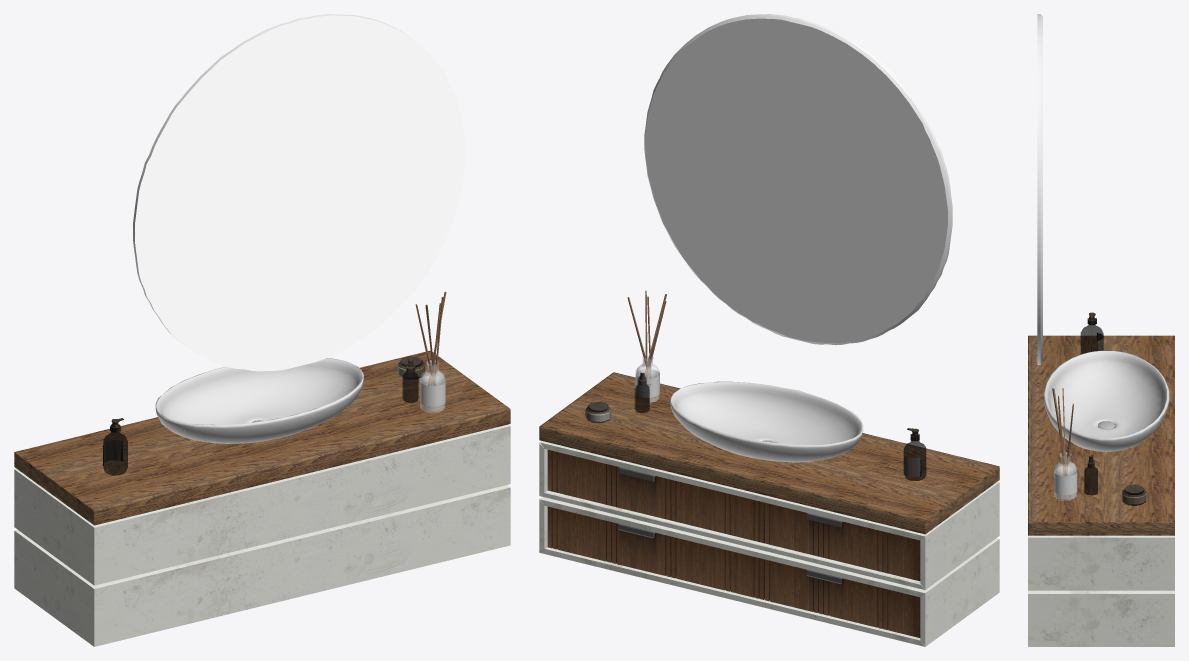
File: furniture_1.glb
The picture shows the model from 3 angles, left to right: view 1: azimuth 30°, elevation 25°; view 2: azimuth 150°, elevation 25°; view 3: azimuth 270°, elevation 25°; orthographic projection. The views are drawn at different scales.
Visible parts, largest first — view 1: GF_Mirror.001, GF_Cube.026, GF_Cube.028, GF_Cube.031, GF_Sink.002, GF_Aroma.001, GF_Bottle_3.001; view 2: GF_Mirror.001, GF_Cube.028, GF_Sink.002, GF_Cube.026, GF_Cube.031, GF_Cube.032, GF_Cube.027, GF_Cube.030, GF_Cube.025, GF_Aroma.001, GF_Bottle_3.001; view 3: GF_Cube.028, GF_Sink.002, GF_Cube.026, GF_Cube.031, GF_Mirror.001, GF_Aroma.001, GF_Bottle_3.001, GF_bottle_2.001, GF_Cream.001.
Boxes of the visible parts, x1,y1,x2,y2 form: GF_Mirror.001: (133, 14, 465, 371); GF_Cube.026: (14, 485, 510, 646); GF_Cube.028: (14, 350, 510, 525); GF_Cube.031: (14, 424, 510, 585); GF_Sink.002: (155, 358, 363, 443); GF_Aroma.001: (415, 291, 446, 412); GF_Bottle_3.001: (102, 418, 127, 475); GF_Mirror.001: (644, 14, 952, 345); GF_Cube.028: (539, 372, 999, 534); GF_Sink.002: (670, 381, 863, 462); GF_Cube.026: (539, 497, 999, 646); GF_Cube.031: (539, 441, 999, 589); GF_Cube.032: (547, 450, 734, 535); GF_Cube.027: (547, 506, 734, 592); GF_Cube.030: (734, 495, 920, 581); GF_Cube.025: (734, 552, 920, 637); GF_Aroma.001: (627, 290, 666, 403); GF_Bottle_3.001: (903, 428, 926, 480); GF_Cube.028: (1028, 335, 1174, 535); GF_Sink.002: (1044, 350, 1169, 452); GF_Cube.026: (1028, 590, 1174, 646); GF_Cube.031: (1028, 535, 1174, 590); GF_Mirror.001: (1037, 14, 1042, 364); GF_Aroma.001: (1052, 388, 1077, 500); GF_Bottle_3.001: (1080, 312, 1103, 354); GF_bottle_2.001: (1084, 454, 1097, 495); GF_Cream.001: (1122, 484, 1146, 505).
Size of the model in its own units: 1.5 by 1.97 by 0.5.
Materials: 18 (5 with a texture image).
